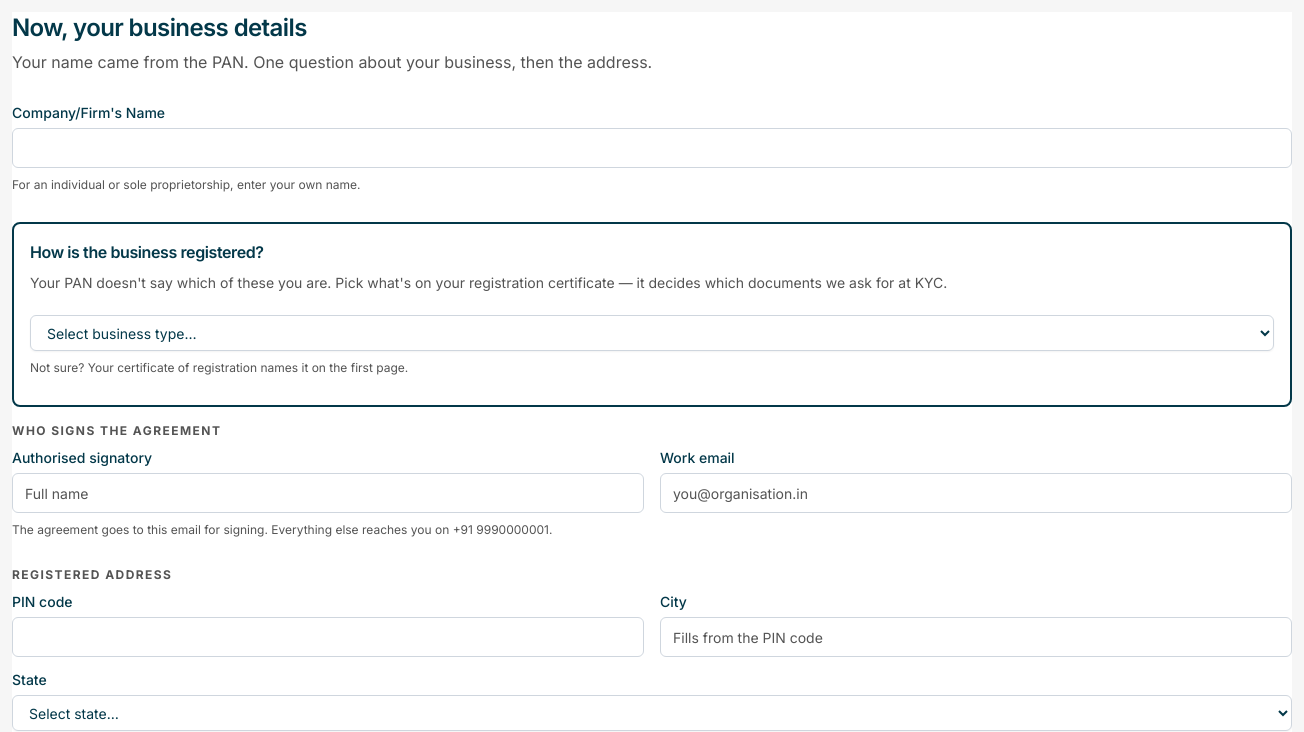
BusinessStep PIN code lookup › fills City and State from a complete PIN code
Type "560001" into the field labelled "PIN code" at {"x": 328, "y": 637}, box [12, 617, 644, 657]
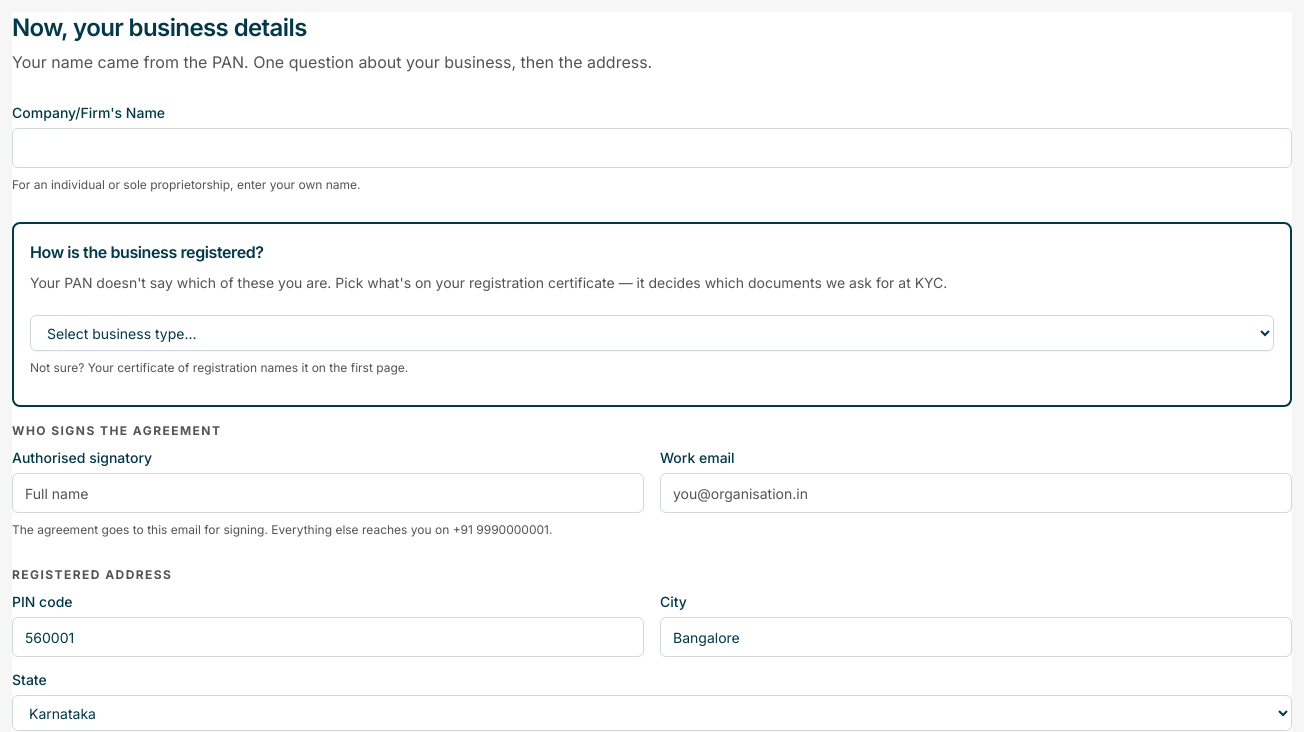
Check: the field labelled "City" holds "Bangalore", box [660, 617, 1292, 657]
Check: the dropdown labelled "State" shows "Karnataka", box [12, 695, 1292, 731]
